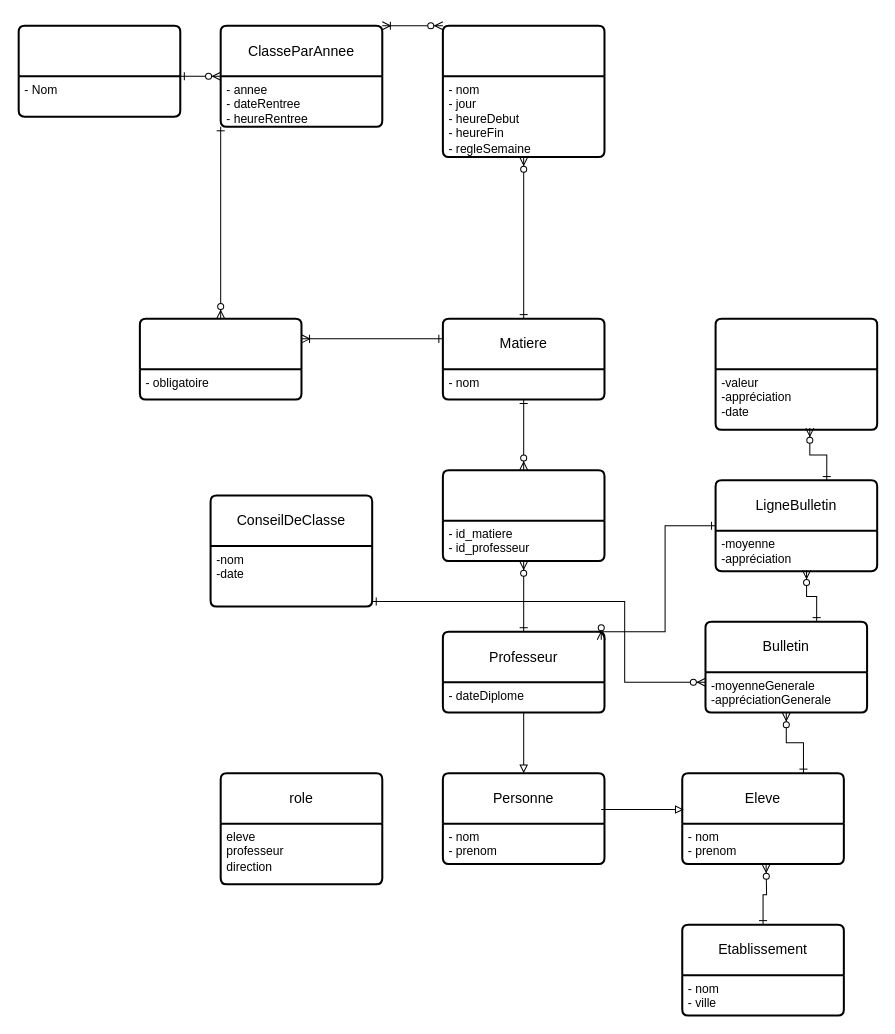
Some shapes in this 895 by 1034 pixel diagram are drawn without their labels. The box of each missing label's shape, as (x1, y1, x2, y2) in pixels:
Classe: (17, 24, 181, 117)
Cours: (441, 24, 605, 158)
Matiere_Professeur: (441, 469, 605, 562)
MatiereClasse: (138, 317, 302, 400)
notes: (714, 317, 878, 430)
